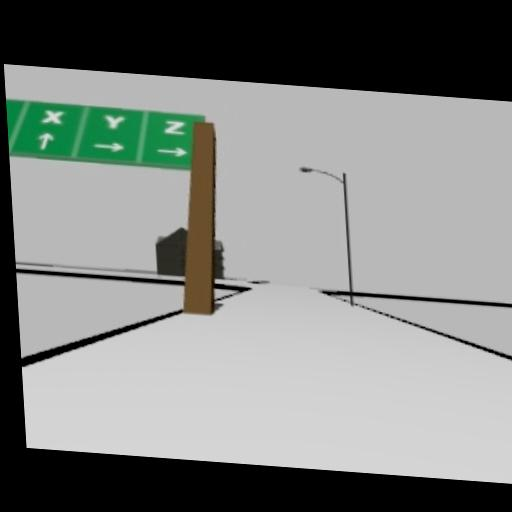Right: (92, 140, 126, 153), (156, 145, 188, 157)
Straight: (38, 131, 55, 150)
X: (41, 107, 65, 124)
Y: (103, 114, 127, 130)
Z: (161, 118, 186, 135)
